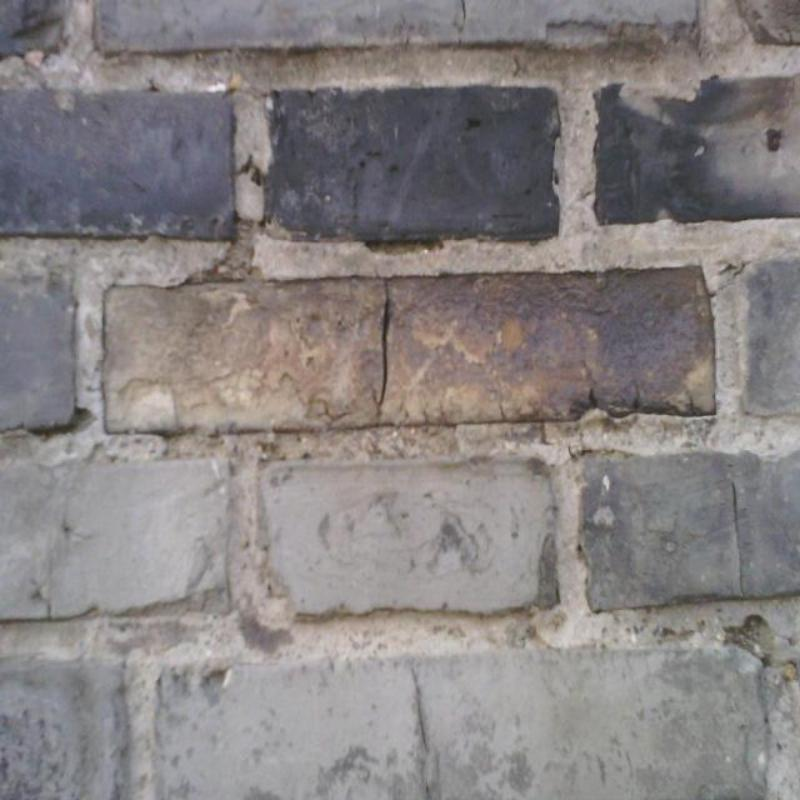crack: (378, 278, 391, 407), (412, 663, 429, 752), (731, 482, 743, 595), (462, 0, 466, 19)
